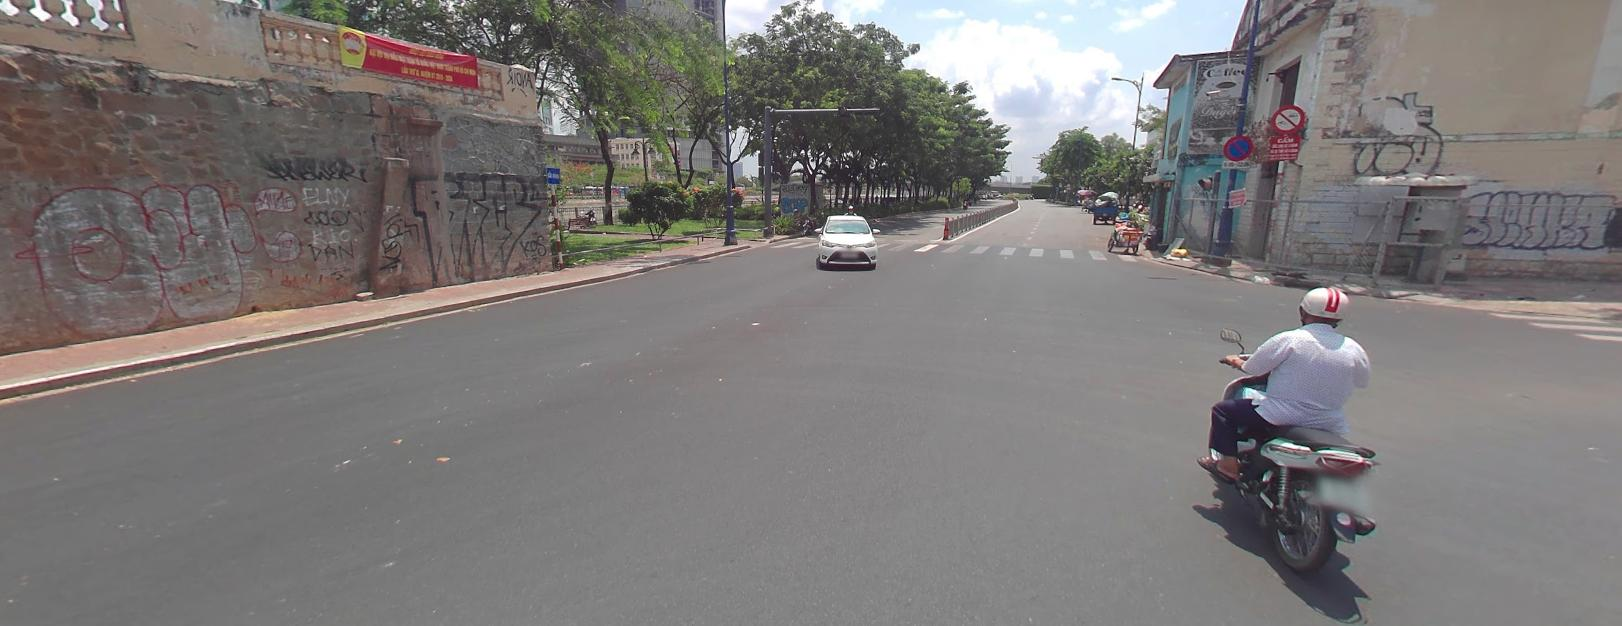Cam con lai: (1271, 105, 1304, 133)
Cam dung va do: (1223, 135, 1253, 159)
